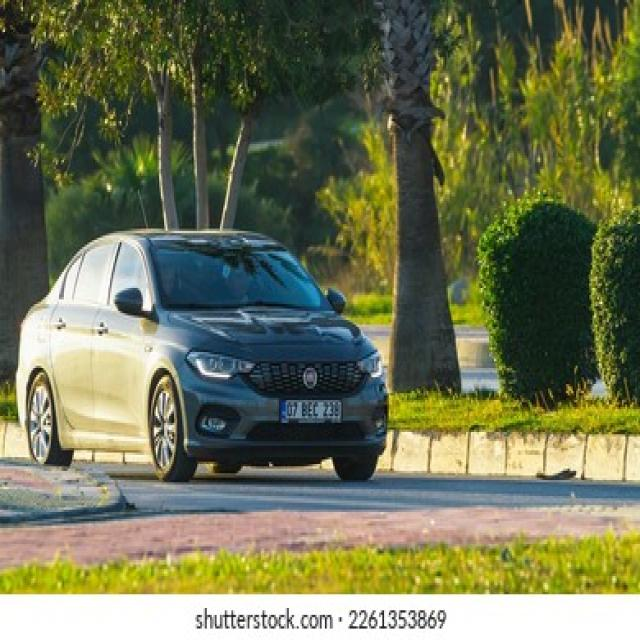fiat: (300, 363, 324, 393)
